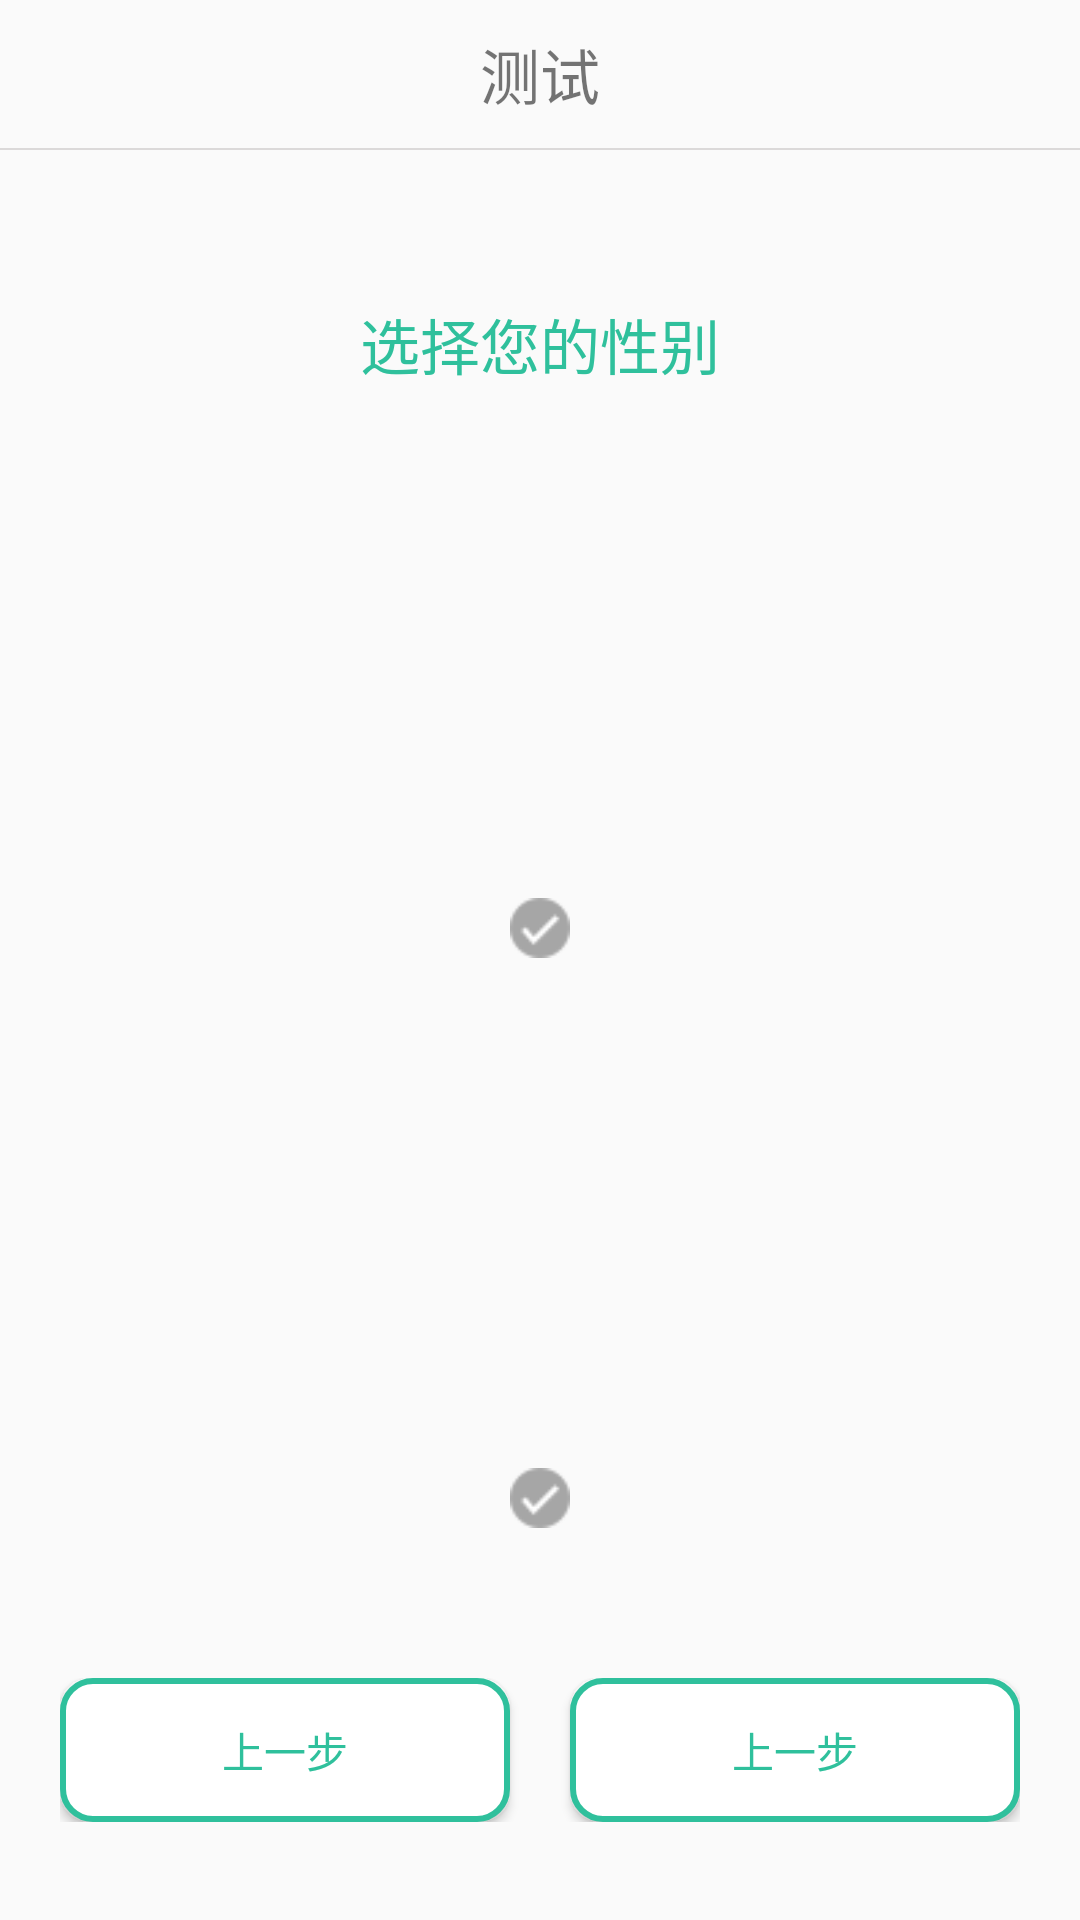

Icon click points for this 1080px×1920px phone screenshot, format [x,y]:
gouxuanqx: [540,928], [540,1498]
